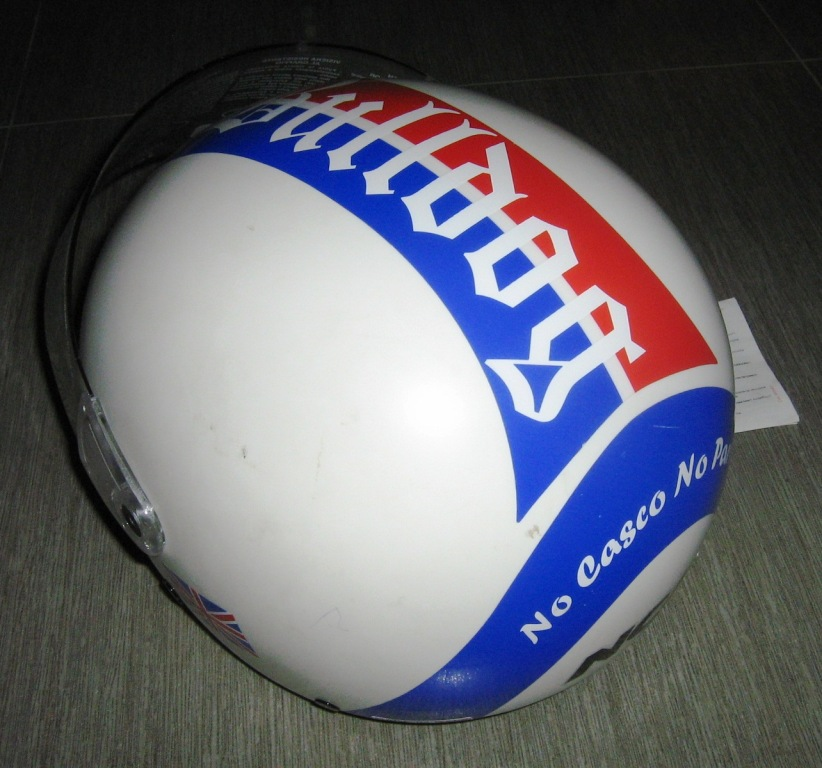helmet: (91, 104, 714, 666)
